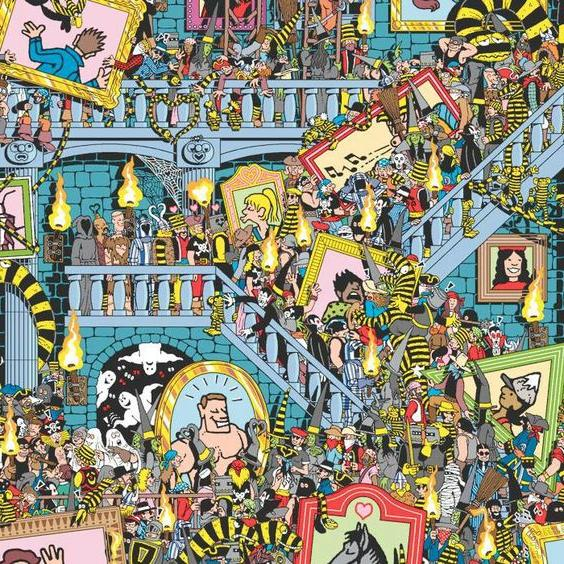waldos: (438, 64, 459, 94)
